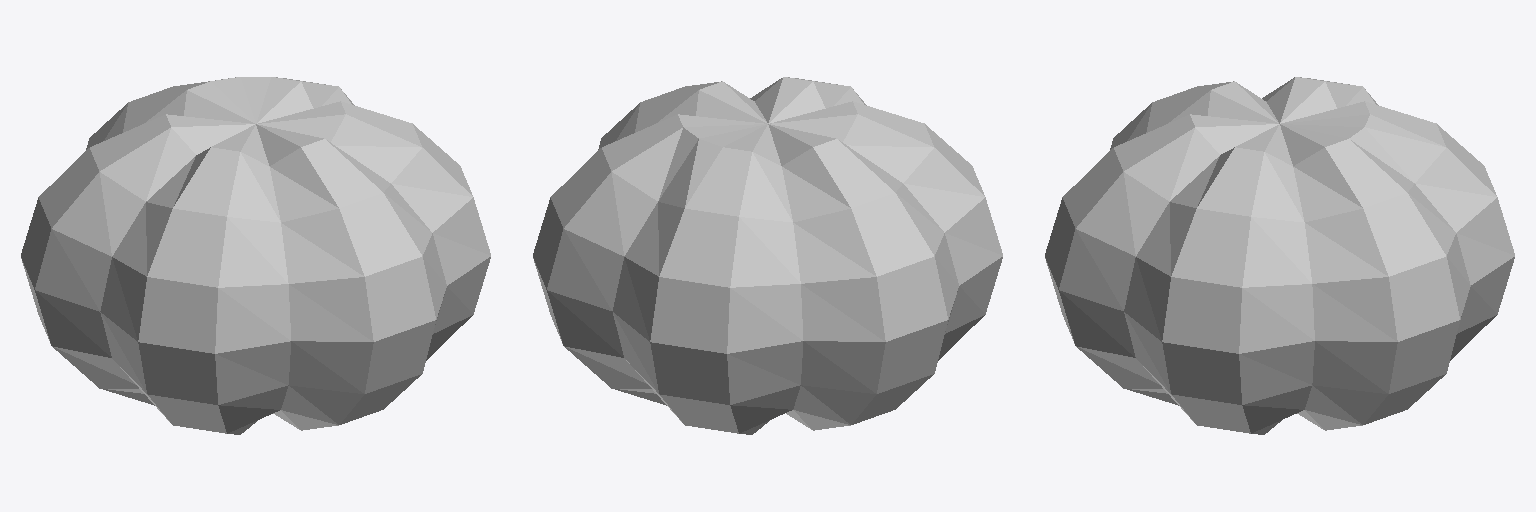
Rendered from newnewpumpkin.obj.
3 renders of one model, left to right at view 1: azimuth 30°, elevation 25°; view 2: azimuth 150°, elevation 25°; view 3: azimuth 270°, elevation 25°, orthographic.
Visible parts, largest first — view 1: Object_230; view 2: Object_230; view 3: Object_230.
Boxes of the visible parts, <box> form: Object_230: <box>21,77,490,434</box>; Object_230: <box>533,77,1002,434</box>; Object_230: <box>1045,77,1514,434</box>.
Bounding box in the file's own units: 3.8 × 2.56 × 3.86.